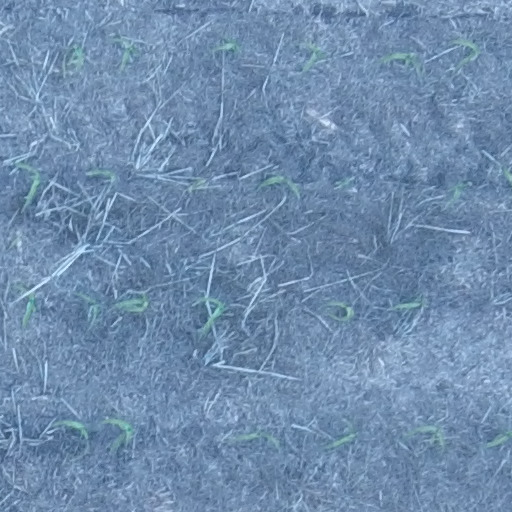planta: (100, 416, 134, 449), (15, 160, 40, 204), (200, 295, 226, 337), (449, 39, 480, 73), (406, 424, 447, 449), (377, 51, 420, 74), (258, 174, 299, 195), (114, 38, 139, 71), (320, 300, 353, 322), (77, 292, 99, 324), (114, 293, 150, 312), (53, 420, 88, 438), (327, 428, 356, 448), (301, 46, 324, 71), (241, 430, 277, 445), (392, 295, 423, 310), (22, 293, 37, 324), (67, 44, 84, 71), (210, 38, 241, 52), (88, 168, 115, 180)
